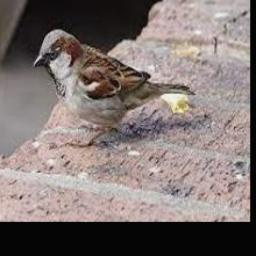Sparrow: (33, 28, 194, 145)
